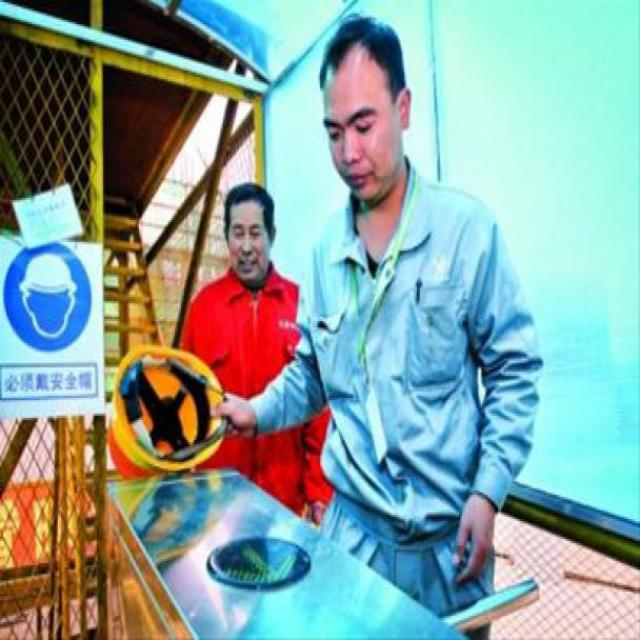helmet: (95, 313, 239, 501)
